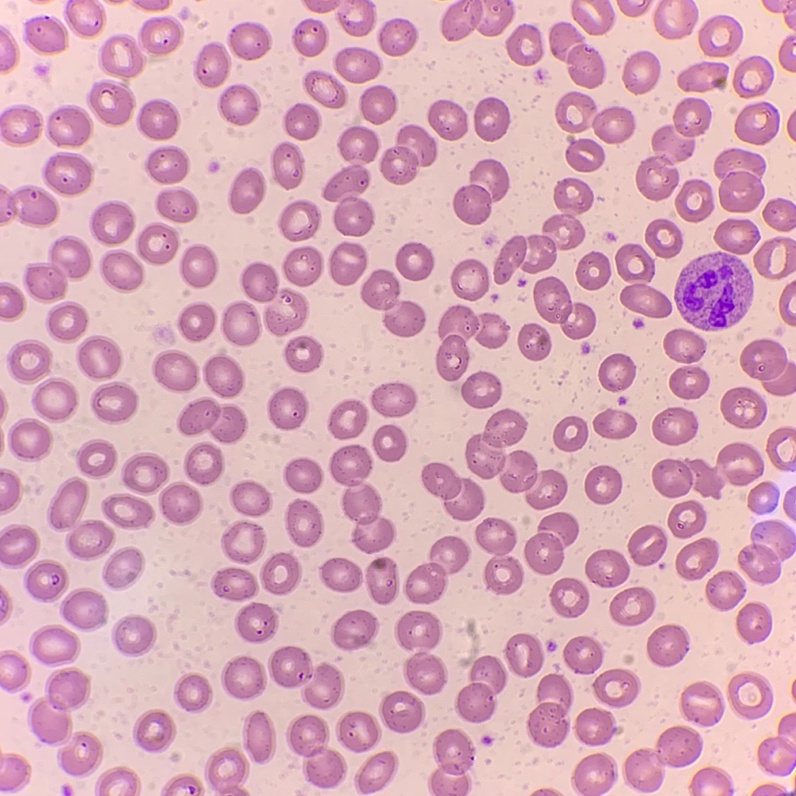RBC: (466, 409, 566, 509), (28, 668, 102, 777), (636, 98, 710, 199), (330, 445, 394, 552), (322, 126, 378, 235), (675, 252, 752, 330), (652, 443, 763, 497), (48, 478, 114, 560), (436, 305, 507, 380), (625, 726, 702, 792), (24, 236, 91, 302), (287, 715, 345, 788), (362, 270, 425, 336), (534, 277, 595, 338), (549, 22, 605, 87), (738, 520, 795, 583), (454, 159, 509, 224), (422, 463, 484, 520), (380, 125, 436, 184), (456, 656, 506, 722), (525, 512, 578, 574), (527, 674, 572, 747), (543, 178, 592, 245), (714, 149, 764, 212), (177, 398, 246, 443), (741, 339, 795, 395), (494, 235, 556, 283), (429, 729, 473, 795), (441, 0, 513, 40), (0, 185, 58, 226), (42, 152, 92, 195), (87, 80, 134, 124), (205, 747, 248, 795), (61, 588, 107, 631), (30, 625, 79, 665), (90, 201, 134, 245), (99, 35, 143, 78), (33, 378, 77, 421), (729, 674, 772, 718), (572, 753, 617, 795), (91, 382, 137, 423), (122, 453, 168, 494), (8, 340, 51, 383), (735, 102, 779, 144), (221, 657, 265, 699), (47, 105, 92, 146), (721, 387, 766, 428), (78, 336, 121, 378), (159, 482, 202, 524), (222, 521, 265, 563), (681, 682, 723, 725), (153, 350, 197, 391), (268, 646, 312, 687), (380, 691, 424, 732), (303, 664, 343, 709), (331, 610, 377, 649), (101, 250, 143, 292), (264, 292, 306, 334), (404, 652, 446, 694), (133, 710, 175, 752), (355, 751, 397, 793), (699, 15, 742, 56), (24, 560, 67, 601), (395, 611, 441, 649), (102, 494, 153, 528), (9, 419, 51, 460), (676, 538, 718, 579), (337, 712, 380, 752), (594, 669, 639, 707), (285, 500, 322, 546), (621, 283, 671, 317), (136, 223, 177, 264), (754, 237, 795, 278), (647, 625, 688, 666), (137, 99, 179, 139), (268, 387, 308, 429), (113, 616, 155, 656), (139, 17, 182, 56), (204, 354, 243, 397), (185, 442, 224, 485), (303, 70, 347, 108), (653, 407, 697, 445), (585, 549, 629, 587), (610, 587, 654, 625), (334, 47, 381, 82), (218, 84, 259, 124), (279, 200, 320, 240), (103, 547, 143, 588), (261, 553, 301, 594), (235, 603, 277, 642), (243, 711, 275, 762), (145, 146, 189, 183), (576, 708, 620, 745), (229, 168, 265, 213), (555, 92, 595, 132), (47, 302, 87, 342), (734, 56, 773, 97), (505, 634, 543, 676), (223, 302, 260, 345), (283, 247, 323, 286), (628, 525, 667, 565), (405, 563, 444, 603), (0, 105, 41, 143), (0, 526, 38, 567), (228, 22, 270, 59), (623, 51, 660, 93), (195, 42, 230, 86), (715, 219, 759, 254), (428, 100, 467, 139), (706, 571, 745, 610), (676, 180, 713, 221), (451, 259, 488, 300), (593, 106, 635, 142), (181, 245, 217, 287), (474, 97, 509, 140), (212, 568, 257, 601), (76, 440, 116, 477), (506, 24, 542, 65), (330, 243, 366, 284), (25, 17, 67, 52), (372, 383, 416, 416), (329, 400, 367, 438), (564, 636, 602, 674), (476, 518, 515, 555), (551, 578, 588, 617), (174, 673, 211, 712), (461, 372, 501, 408), (572, 0, 614, 34), (272, 142, 303, 188), (367, 557, 398, 603), (678, 62, 727, 91), (359, 85, 396, 123), (616, 244, 654, 281), (178, 303, 215, 341), (668, 501, 706, 538), (378, 19, 417, 55), (585, 465, 621, 504), (64, 0, 104, 35), (396, 243, 433, 280), (646, 219, 682, 257), (241, 263, 277, 301), (284, 336, 322, 372), (484, 557, 522, 593), (231, 481, 270, 516), (737, 602, 771, 642), (156, 189, 197, 222), (664, 329, 705, 362), (321, 558, 362, 591), (284, 103, 321, 139), (432, 536, 469, 572), (337, 0, 375, 35), (284, 458, 322, 493), (599, 354, 635, 390), (293, 19, 328, 56), (95, 767, 139, 795), (577, 252, 610, 289), (566, 139, 604, 171), (670, 366, 708, 398), (373, 425, 406, 461), (518, 323, 550, 360), (553, 417, 587, 451), (594, 410, 635, 438), (0, 755, 30, 793), (764, 199, 795, 230), (0, 282, 25, 319), (748, 482, 776, 512), (161, 775, 203, 795), (692, 768, 725, 793), (0, 469, 19, 510), (0, 27, 18, 70), (7, 657, 29, 691), (654, 11, 681, 38), (767, 428, 793, 455), (779, 40, 795, 71), (618, 0, 645, 16), (759, 738, 776, 763), (305, 0, 340, 12), (683, 1, 697, 29), (780, 282, 795, 307), (134, 0, 169, 10), (784, 488, 795, 519), (0, 590, 11, 621), (779, 713, 795, 733), (760, 785, 782, 795), (788, 114, 795, 137), (764, 0, 778, 10), (535, 789, 557, 795), (785, 313, 795, 325), (159, 329, 171, 339), (0, 397, 6, 412), (482, 736, 491, 745), (787, 15, 795, 25), (787, 0, 795, 9), (781, 462, 790, 470), (547, 641, 555, 650), (61, 786, 70, 794), (37, 66, 45, 74), (661, 0, 670, 5), (791, 791, 795, 795)
